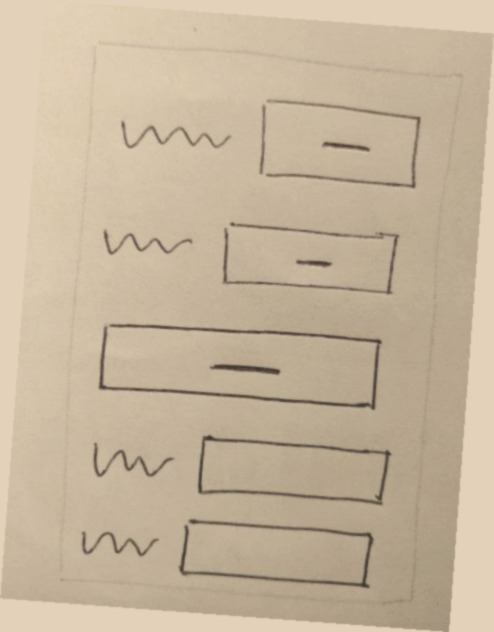button: (89, 313, 390, 422), (249, 90, 428, 199), (217, 215, 404, 306)
text: (109, 106, 238, 171), (89, 210, 218, 274), (76, 430, 190, 491), (65, 511, 179, 572)
text_input: (189, 427, 399, 515), (173, 510, 383, 598)
